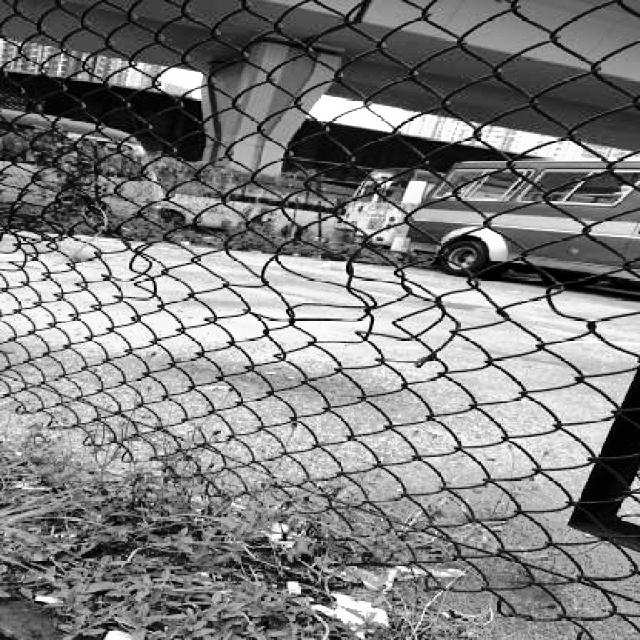anomaly-fence: (224, 220, 468, 334)
